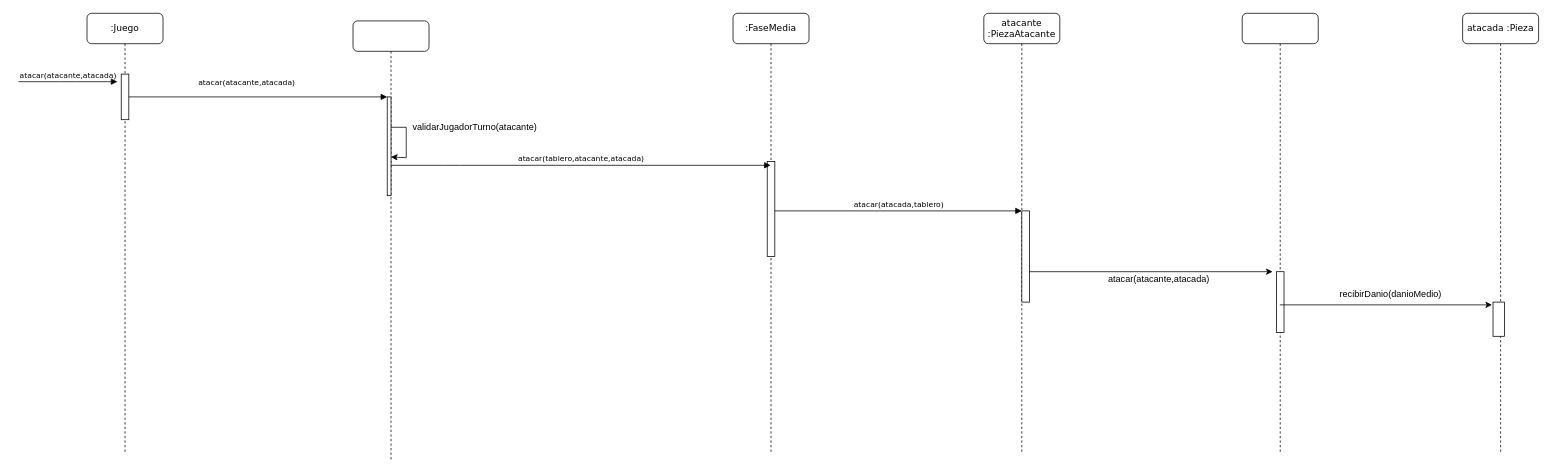
This 1552x475 diagram has some shape labels left out. Each missing label, with the box of its shape:
:AtaqueMedio: (1241, 13, 1318, 454)
:Partida: (352, 20, 429, 462)
